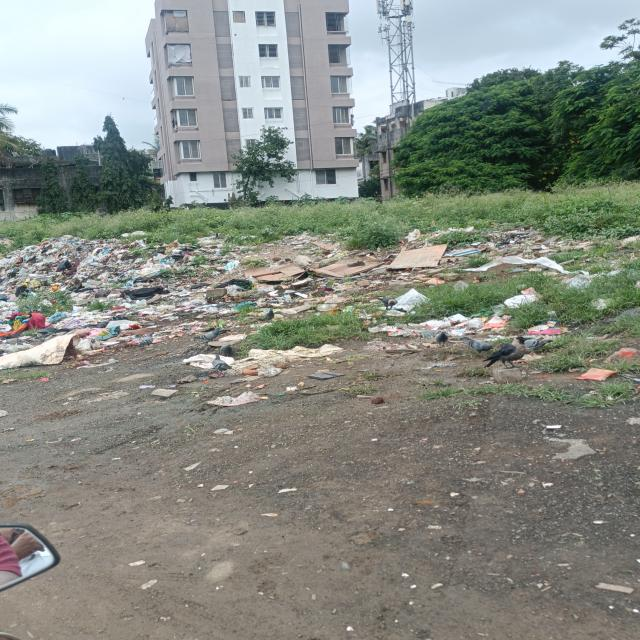garbage: (0, 232, 640, 361)
